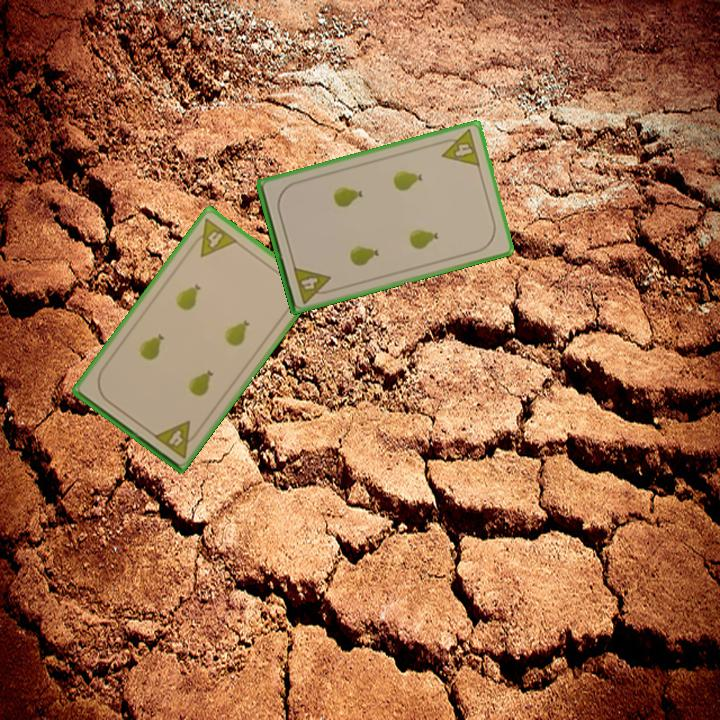4p: (186, 214, 240, 260), (150, 417, 203, 461), (435, 126, 483, 169), (290, 263, 336, 306)
